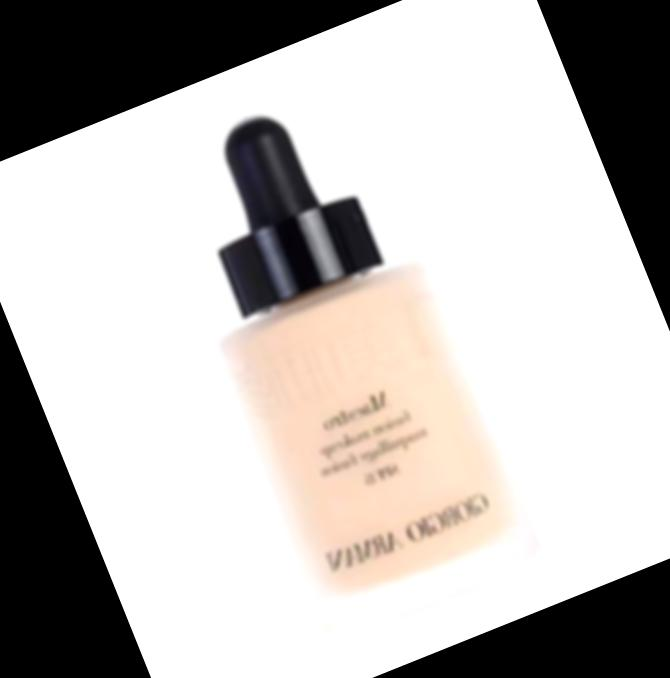cosmetic: (139, 73, 547, 636)
